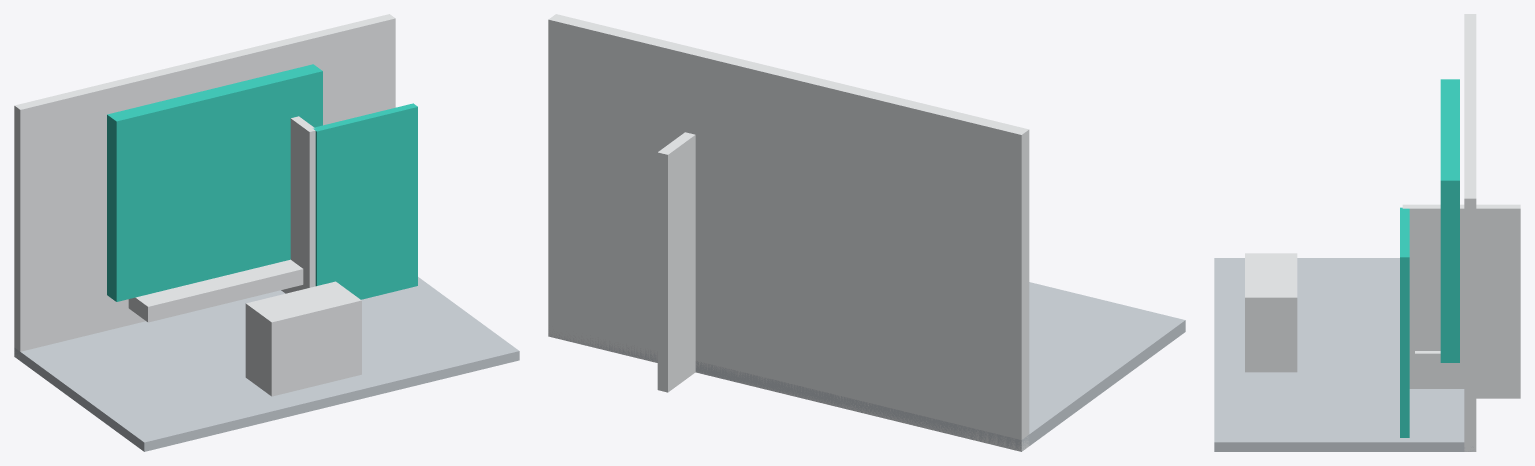
The picture shows the model from 3 angles, left to right: view 1: azimuth 30°, elevation 25°; view 2: azimuth 150°, elevation 25°; view 3: azimuth 270°, elevation 25°; orthographic projection. The views are drawn at different scales.
Visible parts, largest first — view 1: Exhibition Booth Concept; view 2: Exhibition Booth Concept; view 3: Exhibition Booth Concept.
Boxes of the visible parts, x1,y1,x2,y2 form: Exhibition Booth Concept: (14, 14, 519, 451); Exhibition Booth Concept: (548, 14, 1185, 451); Exhibition Booth Concept: (1214, 14, 1520, 451).
Size of the model in its own units: 5 by 3.2 by 3.51.
